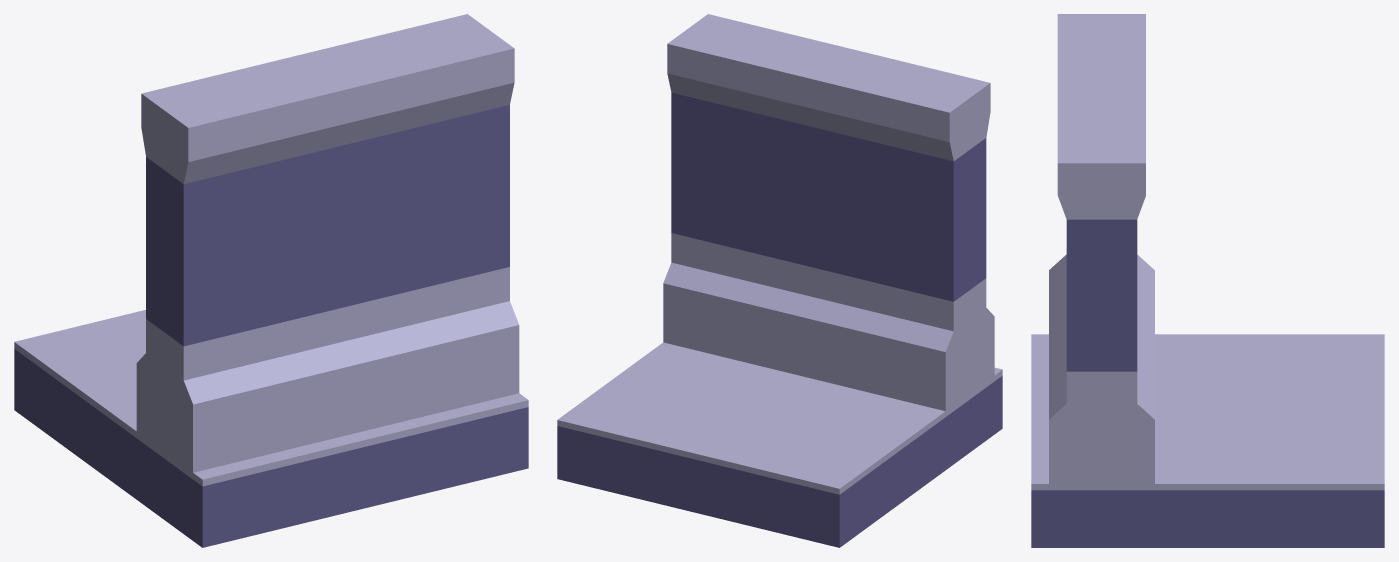
File: interior_wall_variant_1.obj
3 renders of one model, left to right at view 1: azimuth 30°, elevation 25°; view 2: azimuth 150°, elevation 25°; view 3: azimuth 270°, elevation 25°, orthographic. The views are drawn at different scales.
Parts seen in each view (by area): view 1: mergedBlocks; view 2: mergedBlocks; view 3: mergedBlocks.
Boxes of the visible parts, x1,y1,x2,y2 form: mergedBlocks: [14, 14, 528, 547]; mergedBlocks: [557, 14, 1002, 547]; mergedBlocks: [1031, 14, 1384, 547].
Size of the model in its own units: 1 by 1.2 by 1.
